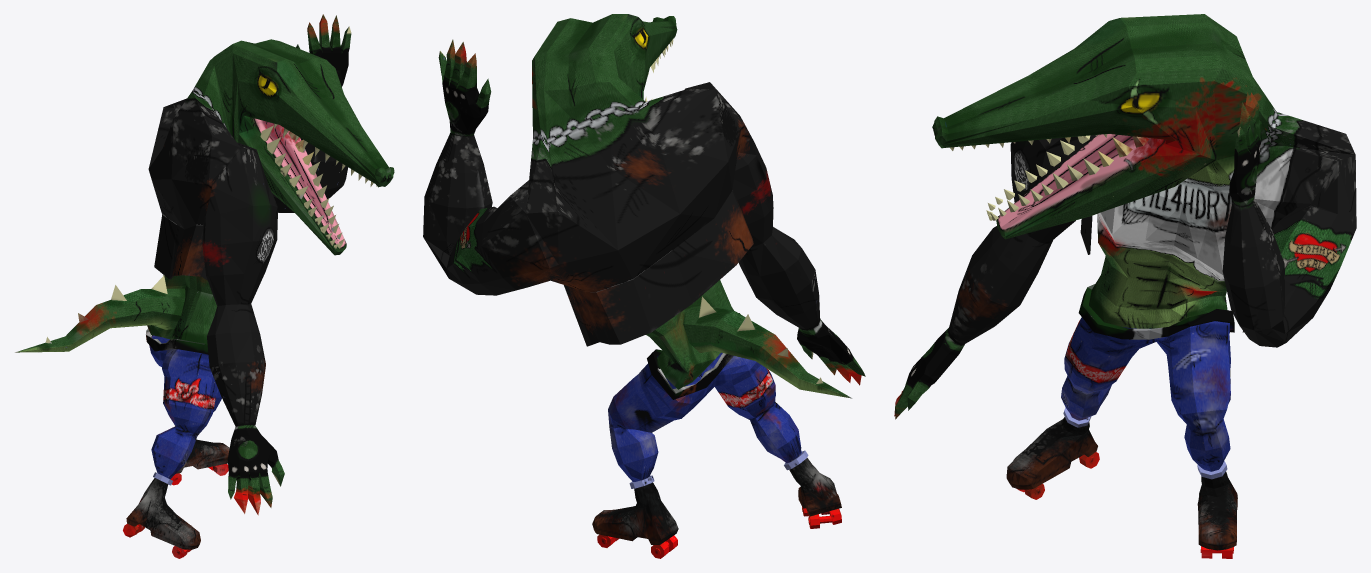
The model's file is cocodrilaBonesSelect_000066.obj.
The picture shows the model from 3 angles, left to right: view 1: azimuth 30°, elevation 25°; view 2: azimuth 150°, elevation 25°; view 3: azimuth 270°, elevation 25°; orthographic projection. The views are drawn at different scales.
Visible parts, largest first — view 1: Crocodile.002_Cylinder.002; view 2: Crocodile.002_Cylinder.002; view 3: Crocodile.002_Cylinder.002.
Boxes of the visible parts, x1=… form: Crocodile.002_Cylinder.002: x1=15, y1=14, x2=394, y2=558; Crocodile.002_Cylinder.002: x1=423, y1=14, x2=865, y2=558; Crocodile.002_Cylinder.002: x1=894, y1=14, x2=1356, y2=558.
Bounding box in the file's own units: 5.24 × 6.16 × 4.63.
